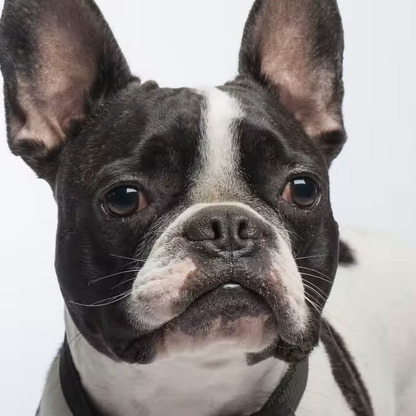bulldog: (3, 2, 387, 416)
